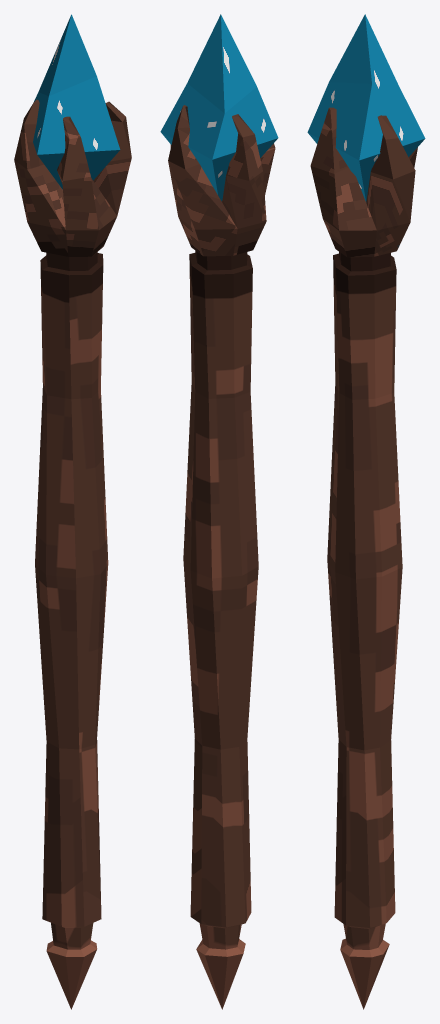
File: Staff.fbx
3 views of the same model, side by side, from view 1: azimuth 30°, elevation 25°; view 2: azimuth 150°, elevation 25°; view 3: azimuth 330°, elevation 25° (orthographic).
Parts seen in each view (by area): view 1: Cube, Cone; view 2: Cube, Cone; view 3: Cube, Cone.
Boxes of the visible parts, bbox=[...] form: Cube: bbox=[14, 99, 131, 1009]; Cone: bbox=[33, 14, 120, 189]; Cube: bbox=[168, 105, 275, 1009]; Cone: bbox=[160, 14, 278, 201]; Cube: bbox=[310, 107, 417, 1009]; Cone: bbox=[307, 14, 425, 202].
Size of the model in its own units: 152 by 1481 by 148.
2 materials, 2 textured.
